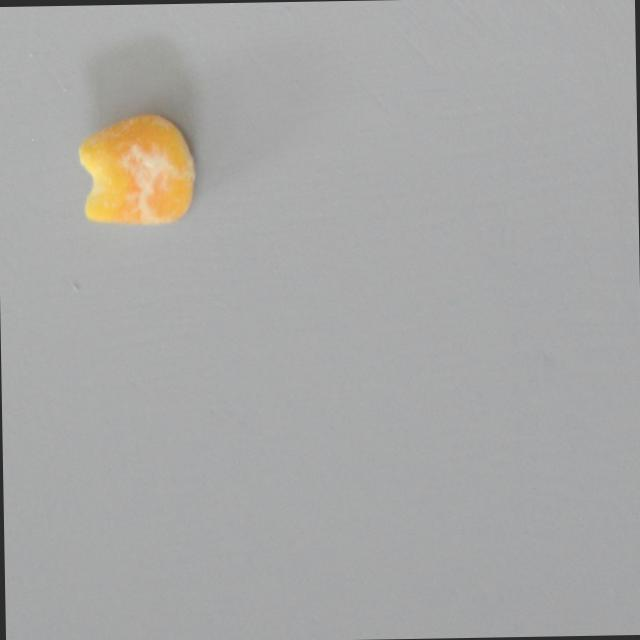pelicula: (75, 111, 197, 225)
